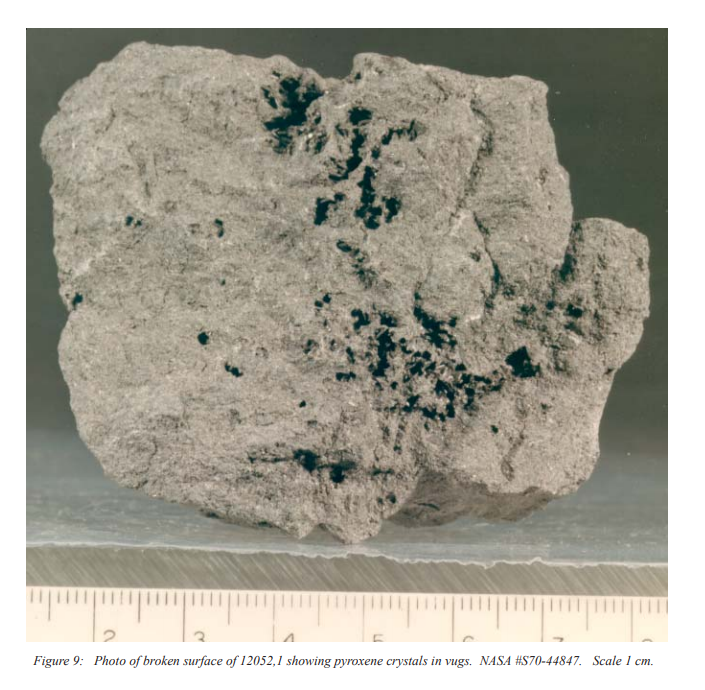Basalt: (40, 32, 626, 495), (257, 82, 558, 449)
